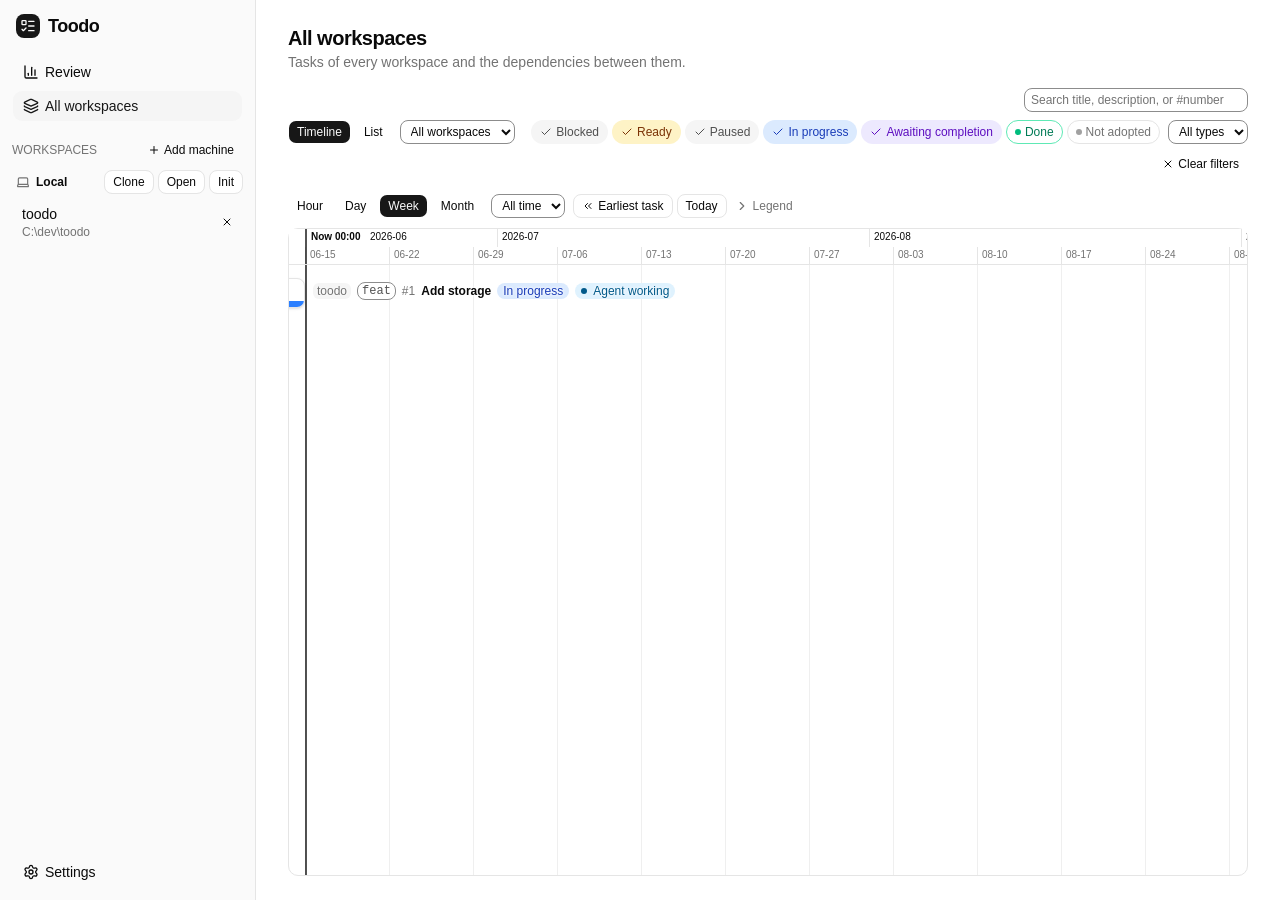
Test: App › shows the agent status of active tasks on the timeline
Click the button "toodo C:\\dev\\toodo". click: (114, 222)
box: [12,198,215,246]
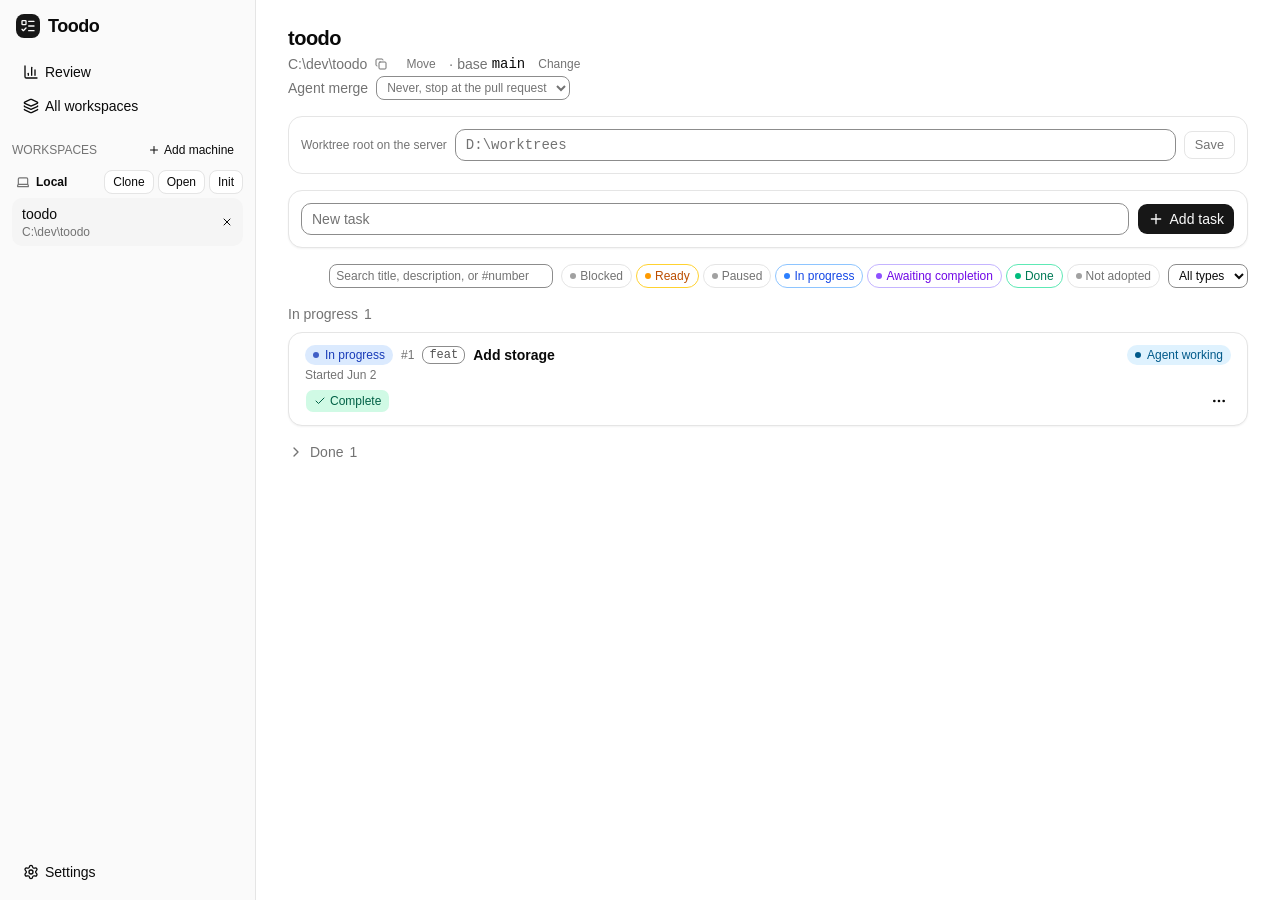
Click the button "All workspaces". click: (128, 106)
box: [12,90,243,122]
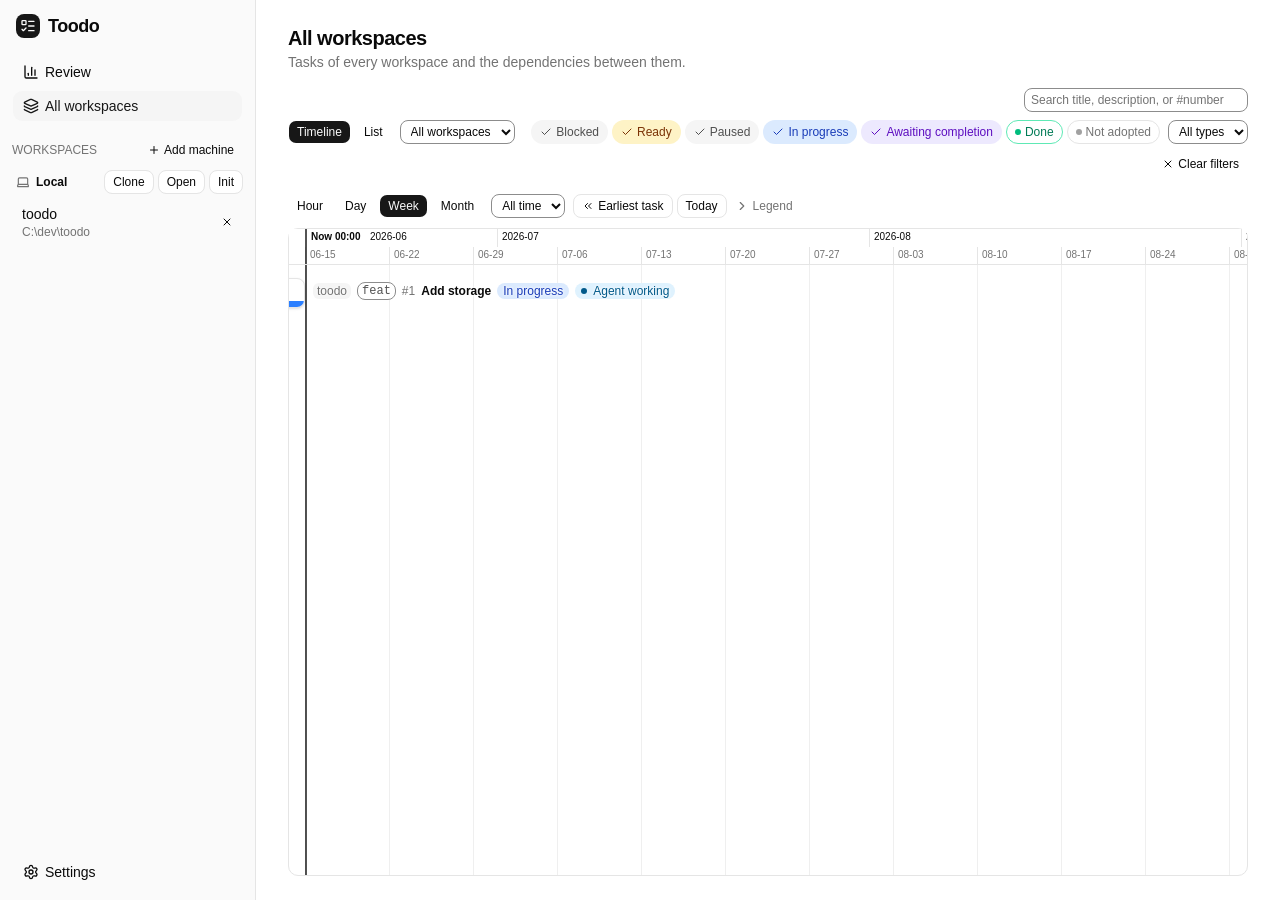
Expected: the element named "Agent of #1" reads "Agent working", [593,284,669,298]
Click the button "Done". click: (1034, 132)
box: [1006,120,1063,144]
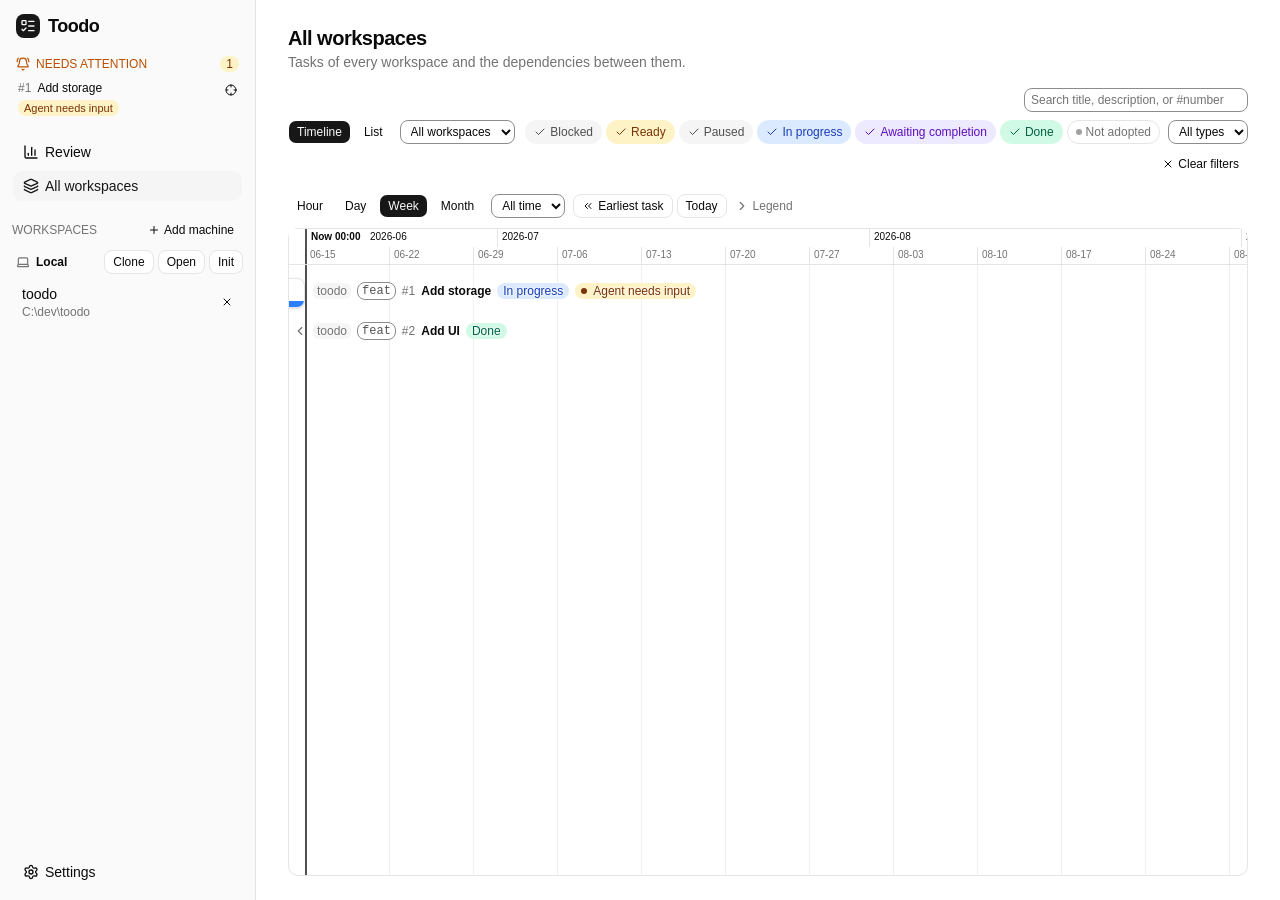
Expected: the text "Add UI" is shown, [421,323,460,339]
Expected: the element named "Agent of #1" reads "Agent needs input", [593,284,690,298]
